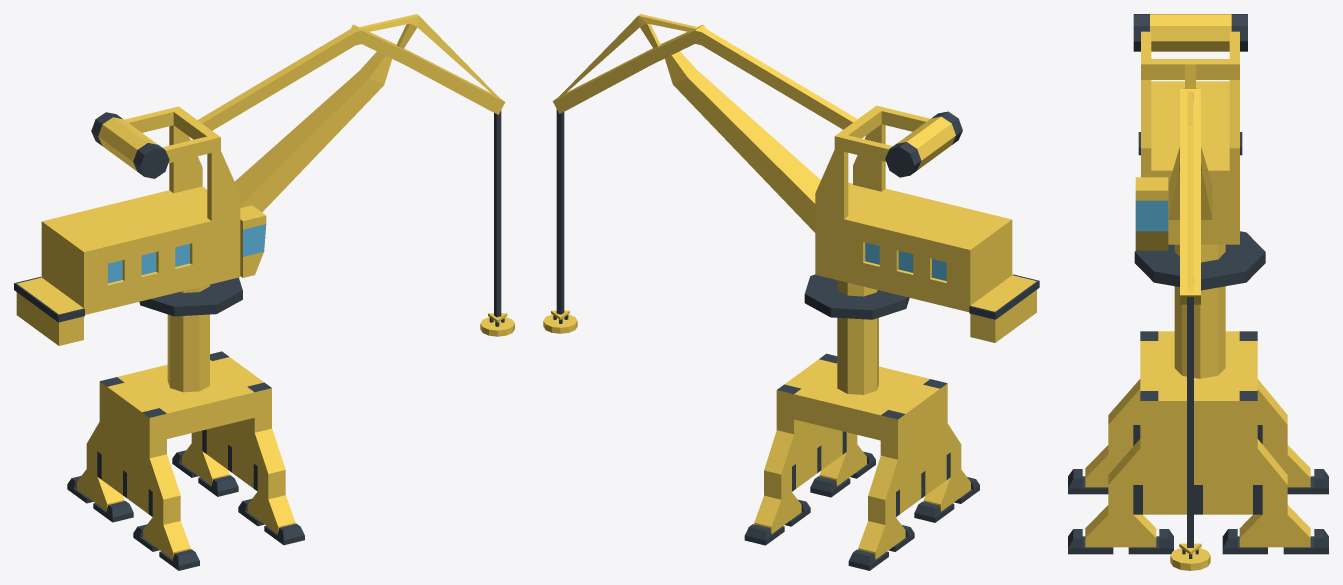
The model's file is crane_full.fbx.
3 renders of one model, left to right at view 1: azimuth 30°, elevation 25°; view 2: azimuth 150°, elevation 25°; view 3: azimuth 270°, elevation 25°, orthographic. The views are drawn at different scales.
Parts seen in each view (by area): view 1: crane_top, crane_base, crane_cable, crane_magnet; view 2: crane_top, crane_base, crane_cable, crane_magnet; view 3: crane_base, crane_top, crane_cable, crane_magnet.
Boxes of the visible parts, box(x1,y1,x2,y2) form: crane_top: box(14, 14, 505, 392); crane_base: box(67, 351, 304, 570); crane_cable: box(494, 110, 501, 317); crane_magnet: box(480, 313, 514, 336); crane_top: box(552, 14, 1039, 394); crane_base: box(744, 353, 979, 570); crane_cable: box(556, 109, 564, 314); crane_magnet: box(543, 310, 577, 333); crane_base: box(1068, 331, 1328, 554); crane_top: box(1133, 14, 1265, 378); crane_cable: box(1187, 297, 1193, 547); crane_magnet: box(1170, 543, 1210, 570).
Size of the model in its own units: 1976 by 1779 by 801.
1 material, 1 textured.
